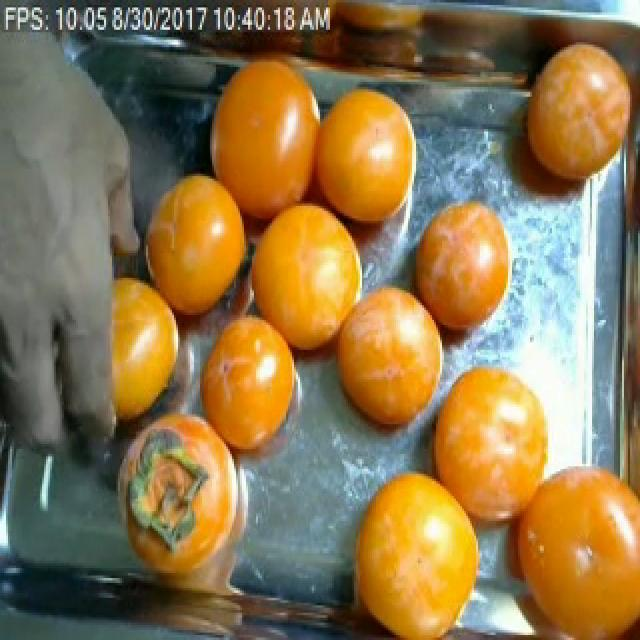Fruit: (332, 451, 492, 640), (314, 266, 446, 457), (66, 256, 188, 452), (398, 181, 526, 367), (508, 27, 638, 206), (430, 350, 566, 513), (132, 154, 250, 340), (304, 70, 416, 256)
